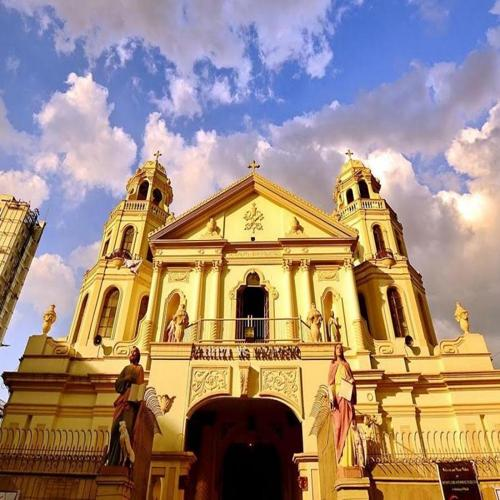Quiapo Church: (64, 138, 436, 500)
